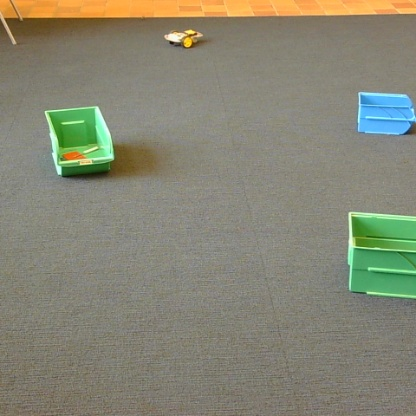robot: (164, 29, 202, 48)
